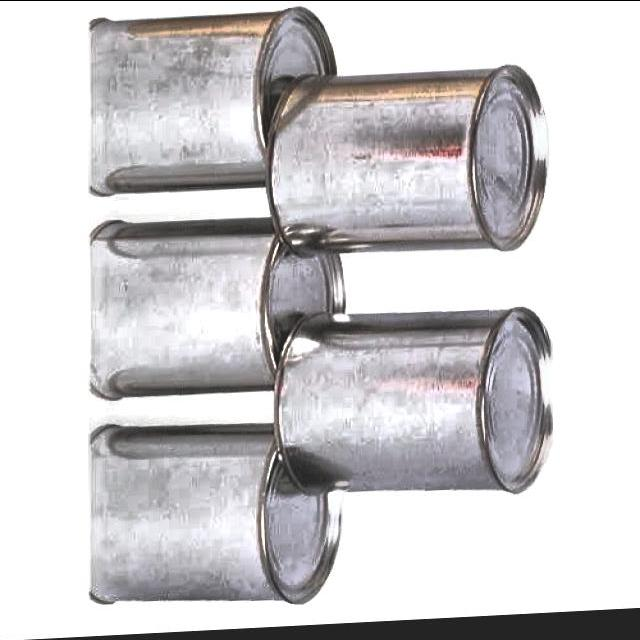litter: (264, 59, 558, 271), (272, 301, 564, 513), (86, 406, 356, 619), (80, 0, 346, 208), (82, 204, 352, 405)
